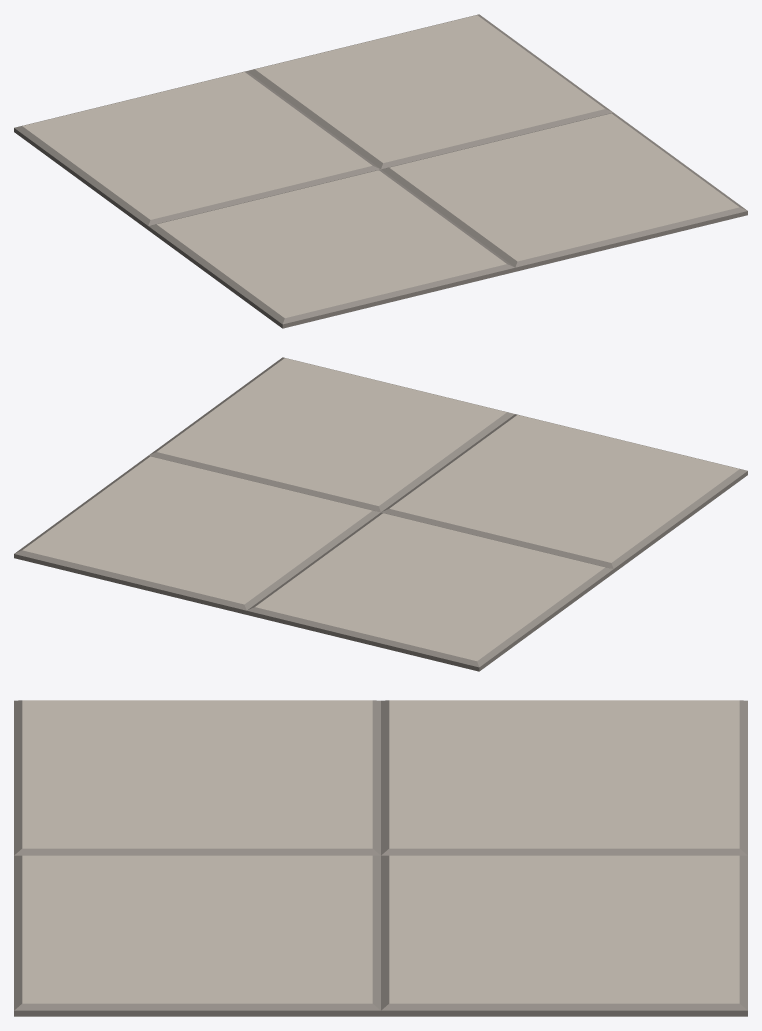
Rendered from Path_Slab_2x2.fbx.
3 views of the same model, one above another, from view 1: azimuth 30°, elevation 25°; view 2: azimuth 150°, elevation 25°; view 3: azimuth 270°, elevation 25° (orthographic). The views are drawn at different scales.
Visible parts, largest first — view 1: Slab_2x2; view 2: Slab_2x2; view 3: Slab_2x2.
Part boxes in pixels (left/top/right/bottom): Slab_2x2: left=14, top=14, right=747, bottom=328; Slab_2x2: left=14, top=357, right=747, bottom=671; Slab_2x2: left=14, top=700, right=747, bottom=1016.
Size of the model in its own units: 200 by 2.85 by 200.
